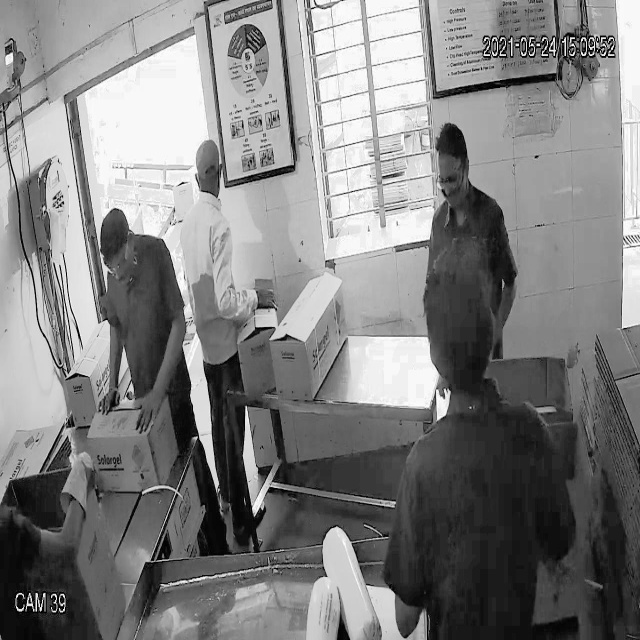Gafas: (430, 162, 467, 195), (102, 241, 129, 277)
